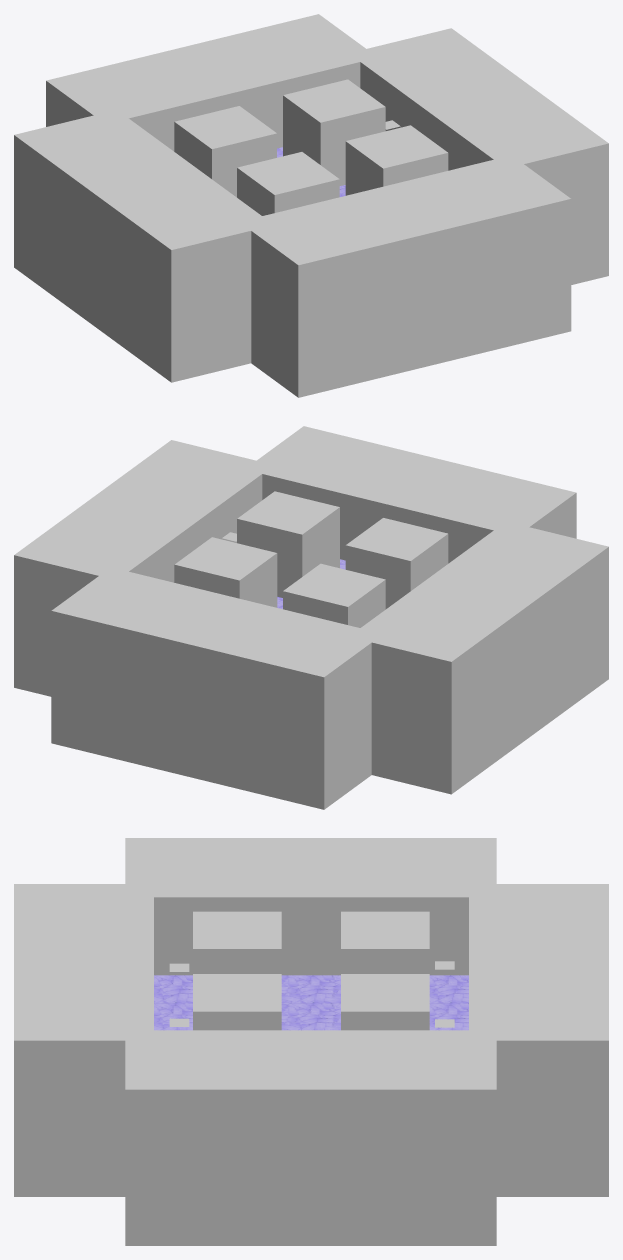
Rendered from level_03.glb.
3 views of the same model, one above another, from view 1: azimuth 30°, elevation 25°; view 2: azimuth 150°, elevation 25°; view 3: azimuth 270°, elevation 25° (orthographic). The views are drawn at different scales.
Visible parts, largest first — view 1: Cube.Invisible.007, Cube.Invisible.008, Cube.Invisible.004, Cube.Invisible.006, Cube.Invisible.001, Cube.Invisible.005, Cube.Invisible.003, Cube.Invisible.002; view 2: Cube.Invisible.006, Cube.Invisible.008, Cube.Invisible.004, Cube.Invisible.007, Cube.Invisible.003, Cube.Invisible.002, Cube.Invisible.001, Cube.Invisible.005; view 3: Cube.Invisible.004, Cube.Invisible.006, Cube.Invisible.007, Cube.Invisible.008, Cube, Cube.Invisible.002, Cube.Invisible.005, Cube.Invisible.001, Cube.Invisible.003.
Part boxes in pixels (left/top/right/bottom): Cube.Invisible.007: left=239, top=155, right=571, bottom=397; Cube.Invisible.008: left=14, top=115, right=267, bottom=382; Cube.Invisible.004: left=354, top=28, right=608, bottom=284; Cube.Invisible.006: left=46, top=14, right=377, bottom=151; Cube.Invisible.001: left=283, top=79, right=385, bottom=185; Cube.Invisible.005: left=174, top=106, right=276, bottom=197; Cube.Invisible.003: left=345, top=125, right=448, bottom=195; Cube.Invisible.002: left=237, top=152, right=339, bottom=215; Cube.Invisible.006: left=51, top=567, right=382, bottom=809; Cube.Invisible.008: left=354, top=527, right=608, bottom=794; Cube.Invisible.004: left=14, top=440, right=269, bottom=696; Cube.Invisible.007: left=244, top=426, right=576, bottom=563; Cube.Invisible.003: left=237, top=491, right=339, bottom=597; Cube.Invisible.002: left=345, top=518, right=448, bottom=609; Cube.Invisible.001: left=174, top=537, right=277, bottom=607; Cube.Invisible.005: left=283, top=563, right=385, bottom=627; Cube.Invisible.004: left=125, top=1030, right=496, bottom=1245; Cube.Invisible.006: left=469, top=884, right=608, bottom=1196; Cube.Invisible.007: left=14, top=884, right=153, bottom=1196; Cube.Invisible.008: left=125, top=838, right=496, bottom=975; Cube: left=154, top=975, right=468, bottom=1030; Cube.Invisible.002: left=193, top=911, right=281, bottom=973; Cube.Invisible.005: left=341, top=911, right=429, bottom=973; Cube.Invisible.001: left=341, top=974, right=429, bottom=1030; Cube.Invisible.003: left=193, top=974, right=281, bottom=1030.
Size of the model in its own units: 60.46 by 18 by 60.41.
Materials: 1 (1 with a texture image).
